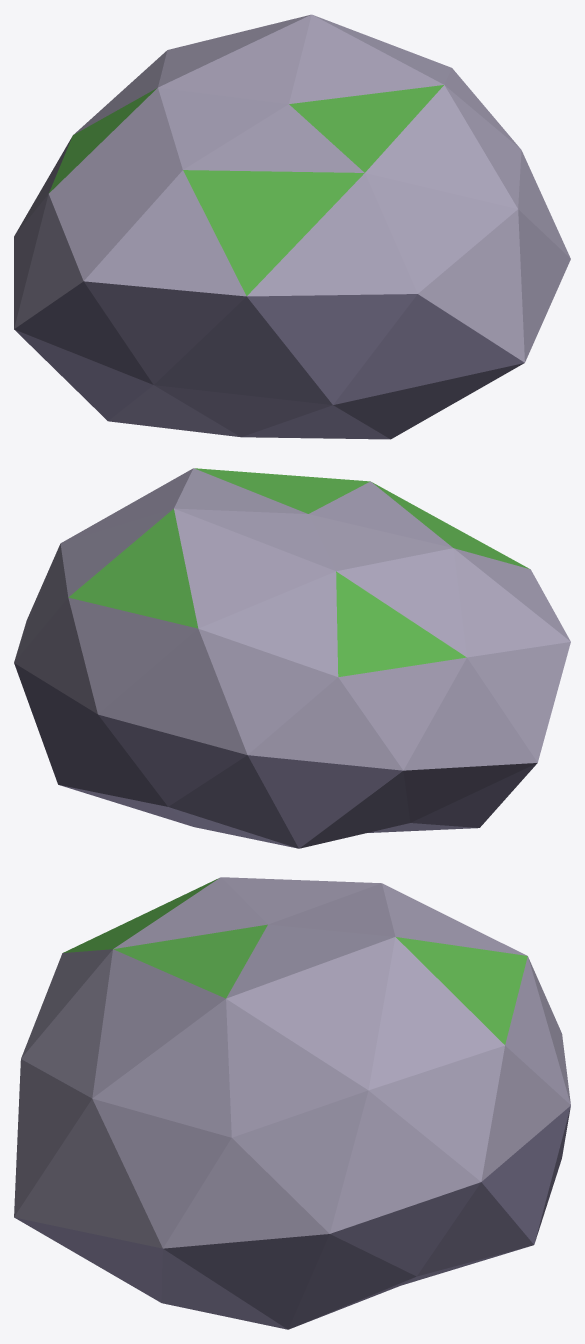
File: Rock2.fbx
3 views of the same model, one above another, from view 1: azimuth 30°, elevation 25°; view 2: azimuth 150°, elevation 25°; view 3: azimuth 270°, elevation 25° (orthographic). The views are drawn at different scales.
Visible parts, largest first — view 1: Rock2; view 2: Rock2; view 3: Rock2.
Part boxes in pixels (box(x1,y1,x2,y2)): Rock2: box(14, 14, 570, 439); Rock2: box(14, 468, 570, 848); Rock2: box(14, 877, 570, 1329).
Size of the model in its own units: 2.03 by 1.2 by 1.71.
1 material, 1 textured.
